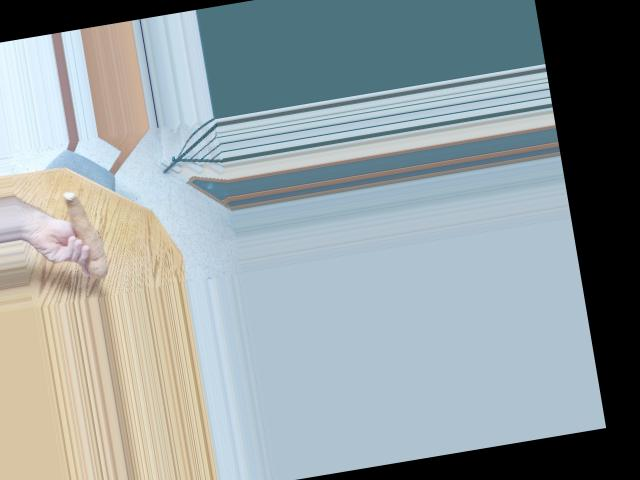sweet_potato: (59, 191, 113, 278)
